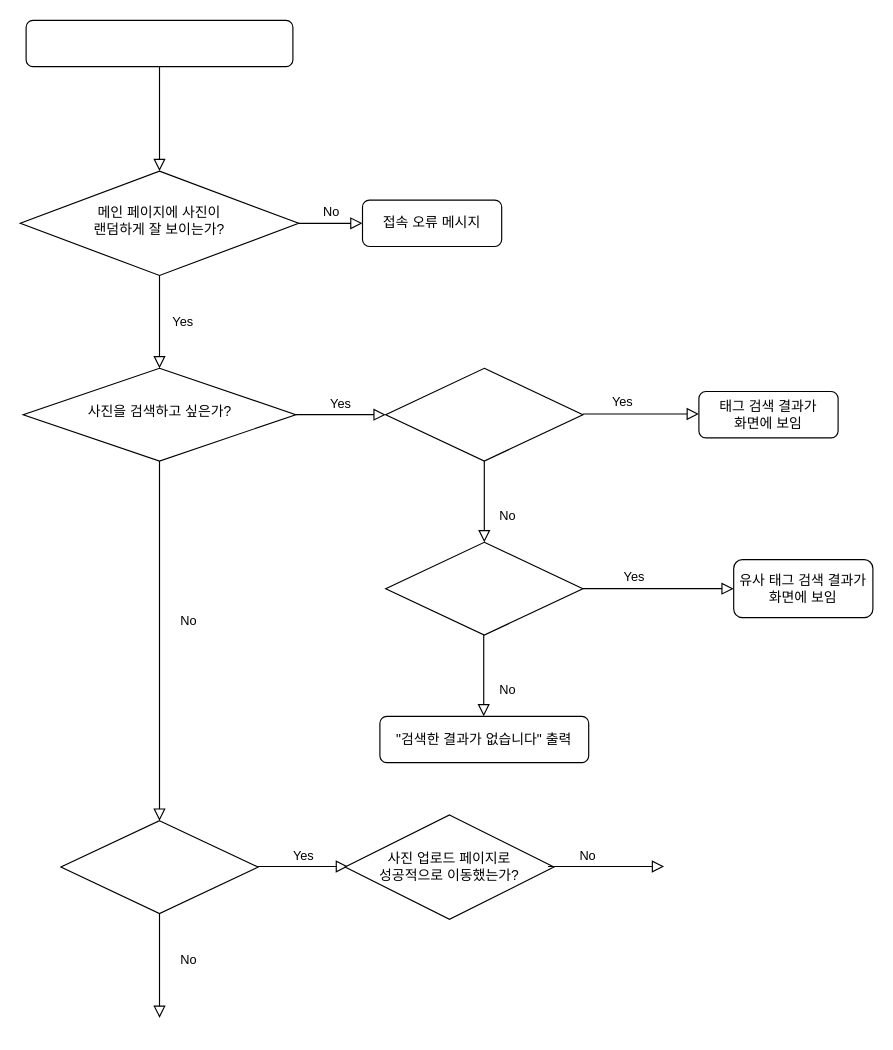
Some shapes in this 893 by 1050 pixel diagram are drawn without their labels. The centre of each missing label's shape, as x and y in pixels:
"Stargram 시작" goes at (x=159, y=43).
"검색한 태그가 있는가?" goes at (x=484, y=414).
"사진을 업로드하고 싶은가?" goes at (x=159, y=866).
"유사한 태그가 있는가?" goes at (x=484, y=588).
